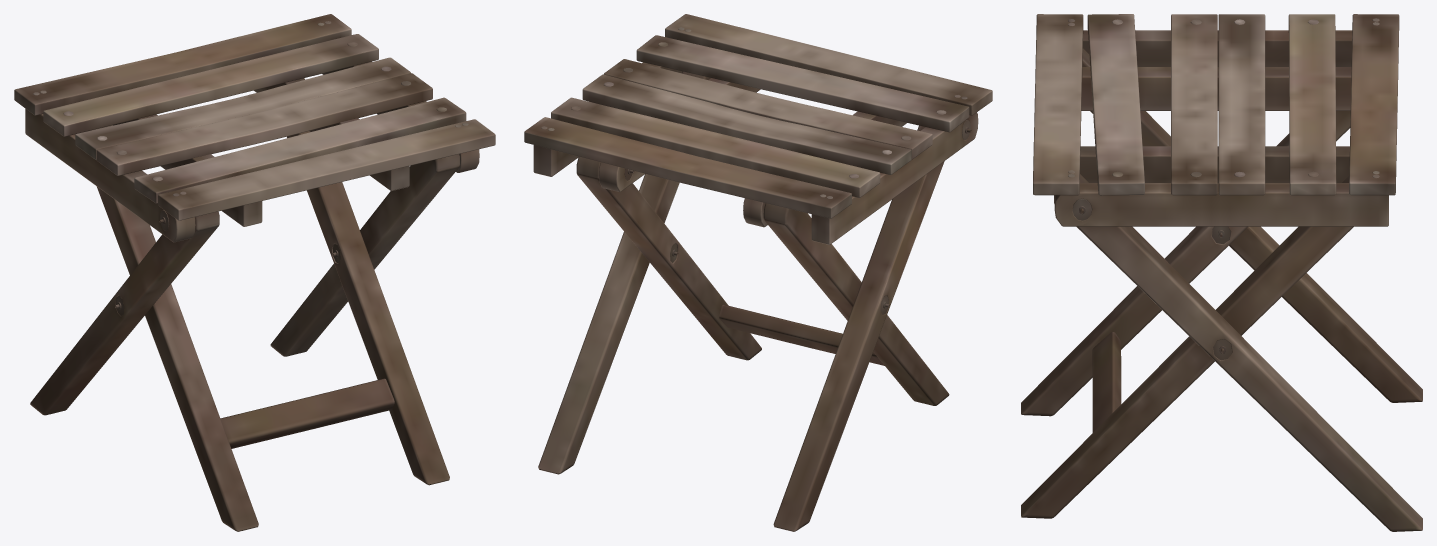
The model's file is ph-folding-wooden-stool.glb.
The picture shows the model from 3 angles, left to right: view 1: azimuth 30°, elevation 25°; view 2: azimuth 150°, elevation 25°; view 3: azimuth 270°, elevation 25°; orthographic projection. The views are drawn at different scales.
Parts seen in each view (by area): view 1: folding_wooden_stool; view 2: folding_wooden_stool; view 3: folding_wooden_stool.
Part boxes in pixels (x1=…): folding_wooden_stool: x1=14, y1=14, x2=495, y2=531; folding_wooden_stool: x1=524, y1=14, x2=992, y2=531; folding_wooden_stool: x1=1021, y1=14, x2=1422, y2=531.
Size of the model in its own units: 1 by 1 by 1.
1 material, 1 textured.
